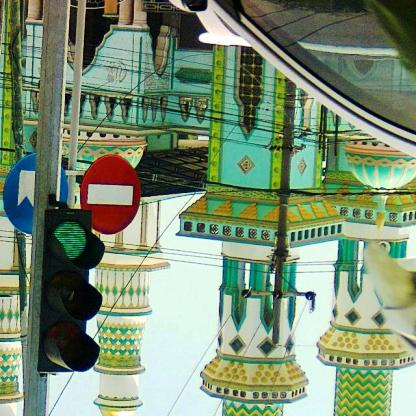Traffic Light -Green-: (43, 209, 104, 378)
